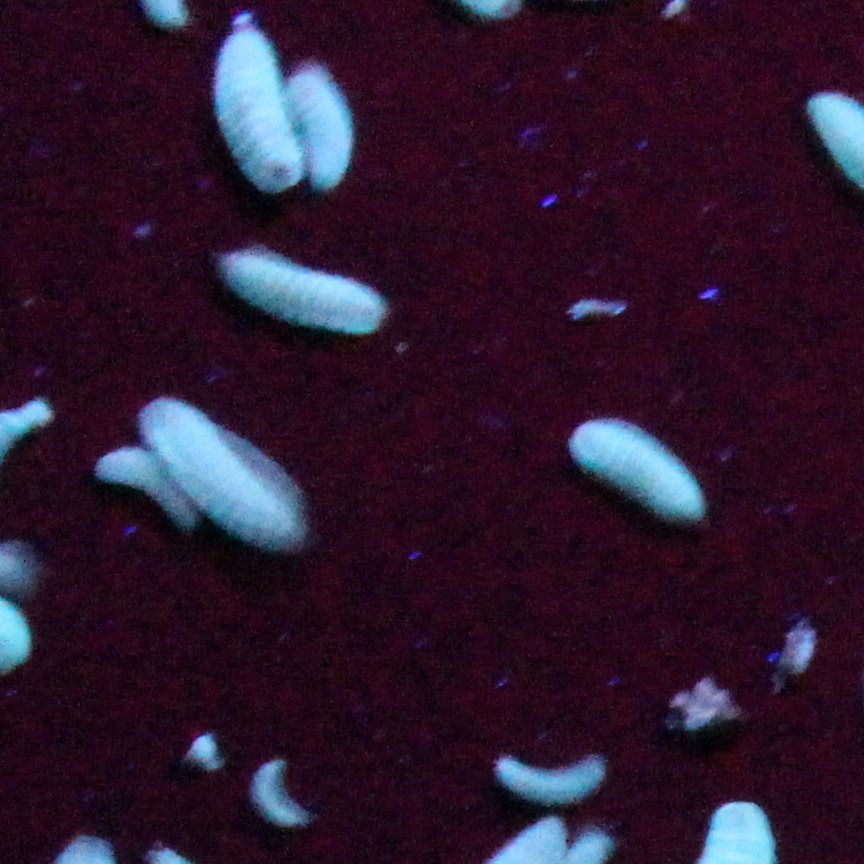larve: (134, 402, 298, 548), (199, 31, 297, 192), (571, 417, 701, 532), (224, 253, 378, 336), (286, 74, 352, 188), (93, 453, 189, 519), (490, 755, 609, 802), (245, 754, 312, 832)
